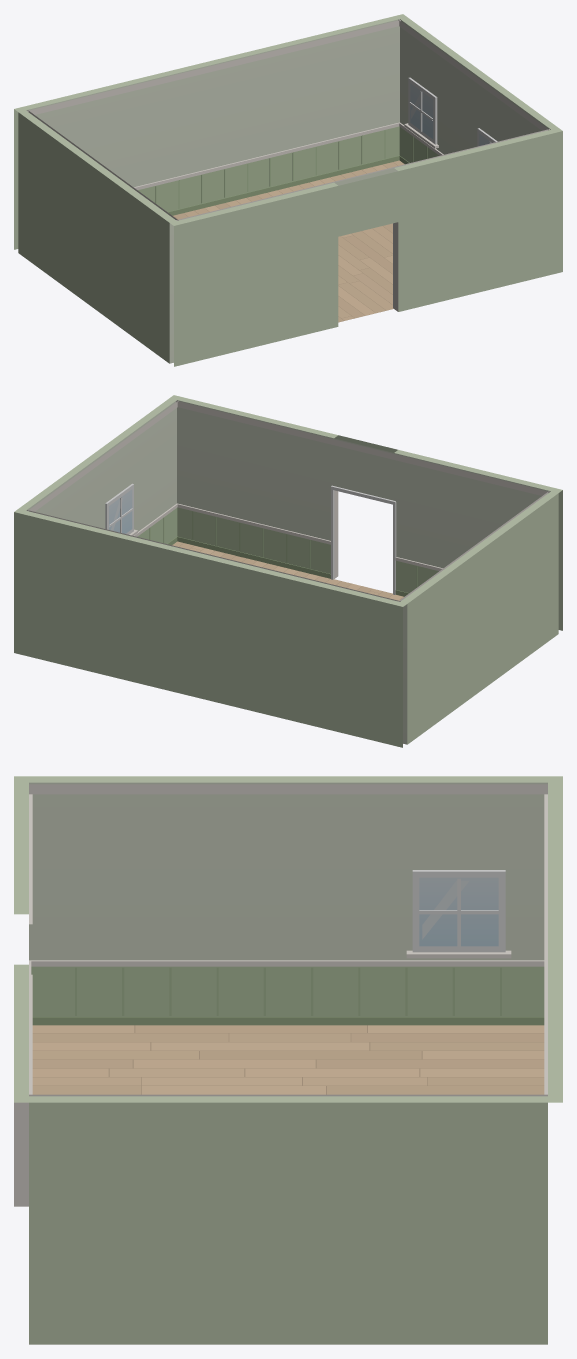
The model's file is rumah2_interior_shell.glb.
3 views of the same model, one above another, from view 1: azimuth 30°, elevation 25°; view 2: azimuth 150°, elevation 25°; view 3: azimuth 270°, elevation 25° (orthographic). The views are drawn at different scales.
Parts seen in each view (by area): view 1: dinding_selatan, dinding_utara, dinding_barat, dinding_timur, lantai; view 2: dinding_utara, dinding_selatan, dinding_barat, dinding_timur, lantai; view 3: dinding_timur, dinding_barat, lantai, dinding_selatan, dinding_utara.
Part boxes in pixels (box(x1,y1,x2,y2)): dinding_selatan: box(169, 128, 562, 366); dinding_utara: box(14, 14, 406, 249); dinding_barat: box(18, 110, 178, 363); dinding_timur: box(398, 17, 558, 164); lantai: box(173, 160, 404, 322); dinding_utara: box(14, 509, 407, 747); dinding_selatan: box(170, 395, 562, 630); dinding_barat: box(398, 491, 558, 744); dinding_timur: box(18, 398, 178, 545); lantai: box(172, 541, 403, 600); dinding_timur: box(29, 1094, 547, 1344); dinding_barat: box(29, 776, 547, 1025); lantai: box(32, 1025, 544, 1094); dinding_selatan: box(14, 776, 32, 1206); dinding_utara: box(544, 776, 562, 1102).
Size of the model in its own units: 10.4 by 3.6 by 7.4.
